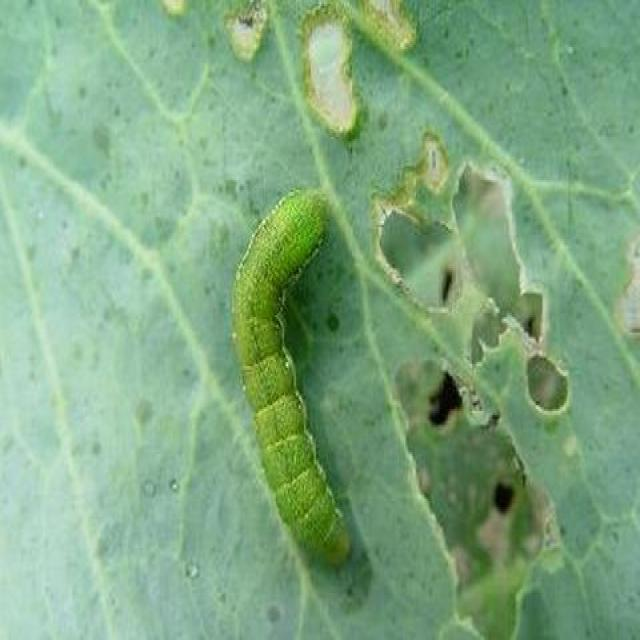BeetArmyWorm-Larva-: (221, 181, 357, 573)
